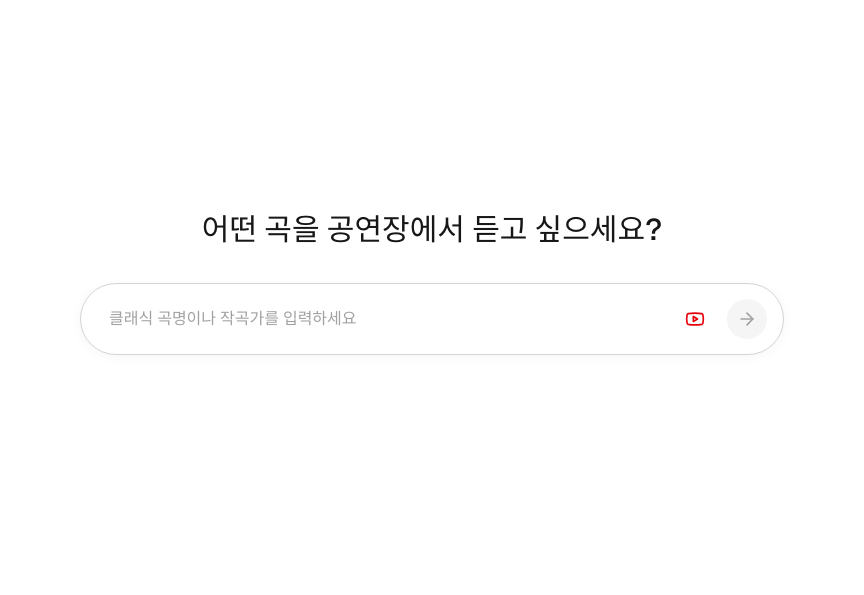
Test: search-first experience › does not replay the entrance after searching and clearing before it finishes
Type "운명" into the dropdown named "곡명, 작곡가, 별칭 검색" at (386, 319), box [109, 287, 663, 351]
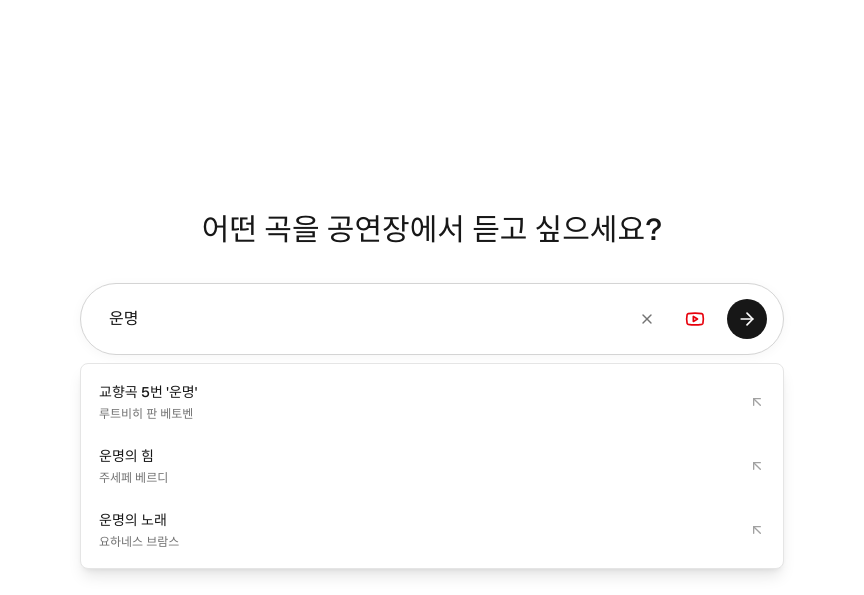
Press Enter in the dropdown named "곡명, 작곡가, 별칭 검색", box [109, 287, 619, 351]
Wait 150 ms
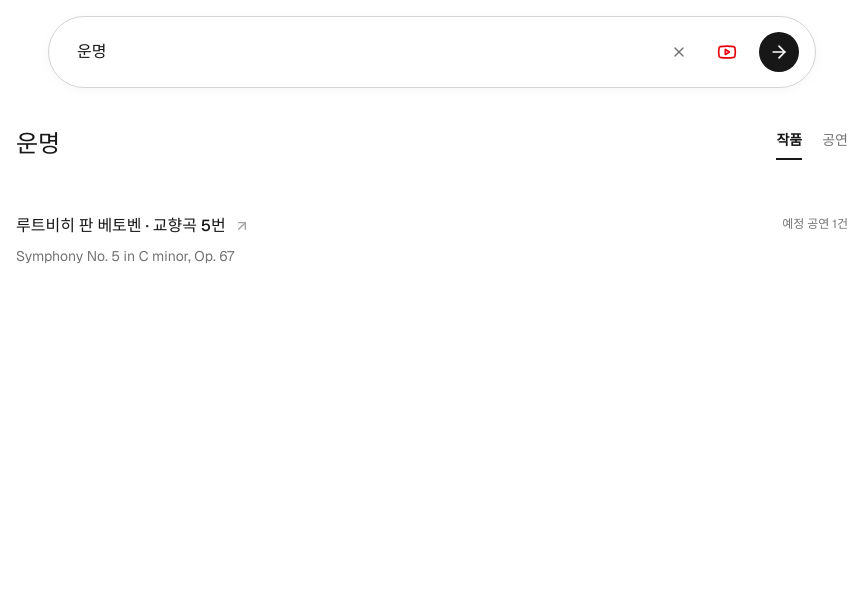
Click the button named "검색어 지우기" at (679, 52), box [663, 36, 695, 68]
Wait 150 ms
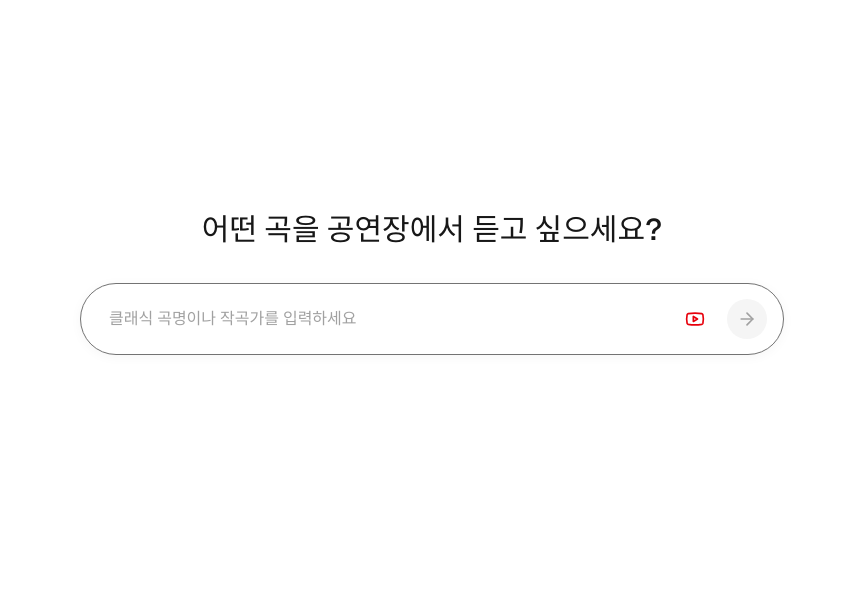
Now the heading "어떤 곡을 공연장에서 듣고 싶으세요?" does not have class "search-welcome-enter", box [202, 210, 662, 249]
